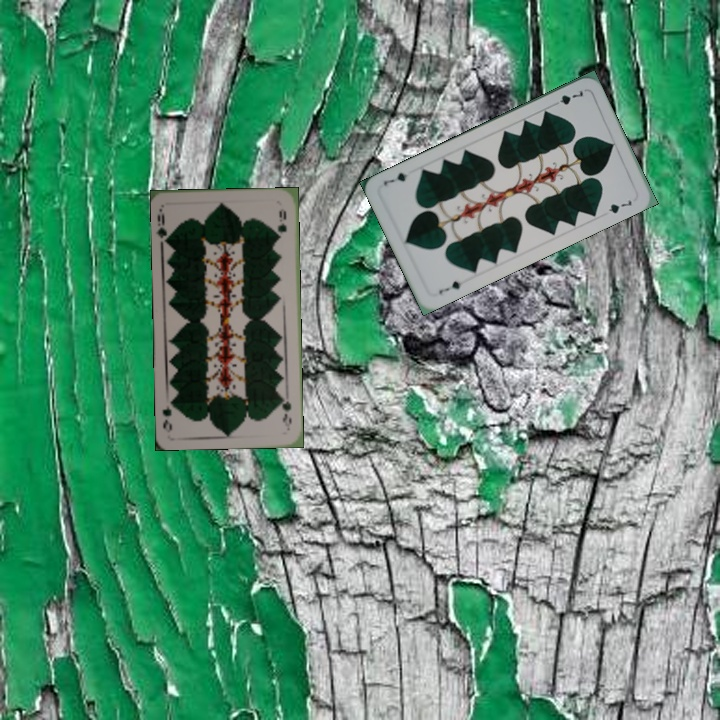G7: (548, 86, 586, 109), (434, 277, 464, 297)
G9: (154, 205, 174, 245), (278, 391, 294, 431)
